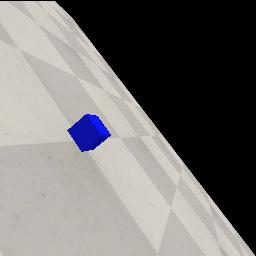box: (67, 114, 111, 152)
